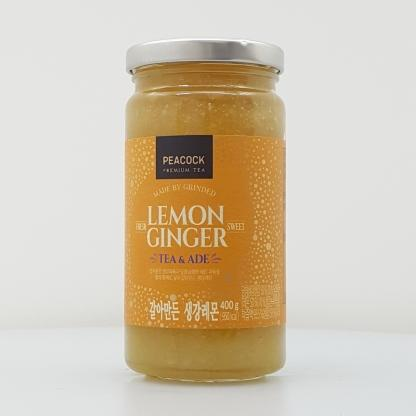--------------400G: (124, 38, 286, 382)
